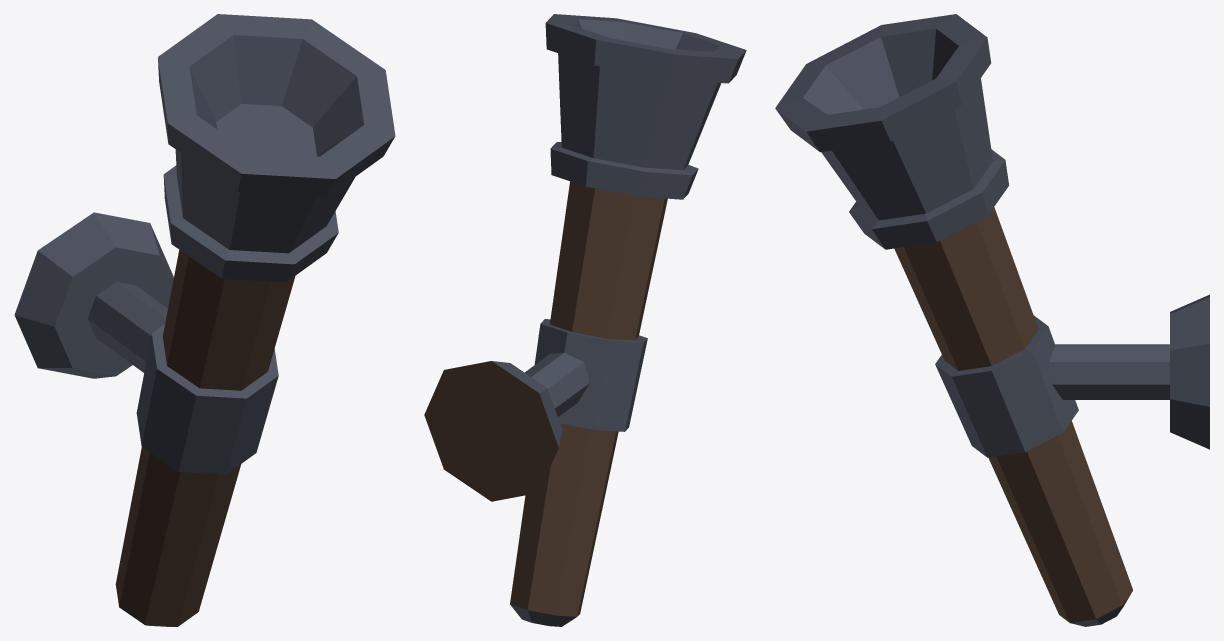
File: wall_torch.fbx
3 renders of one model, left to right at view 1: azimuth 30°, elevation 25°; view 2: azimuth 150°, elevation 25°; view 3: azimuth 270°, elevation 25°, orthographic. The views are drawn at different scales.
Parts seen in each view (by area): view 1: wall_torch; view 2: wall_torch; view 3: wall_torch.
Part boxes in pixels (x1,y1,x2,y2): wall_torch: (14, 14, 395, 626); wall_torch: (424, 14, 746, 626); wall_torch: (775, 14, 1209, 626).
Size of the model in its own units: 21.69 by 61.82 by 41.66.
